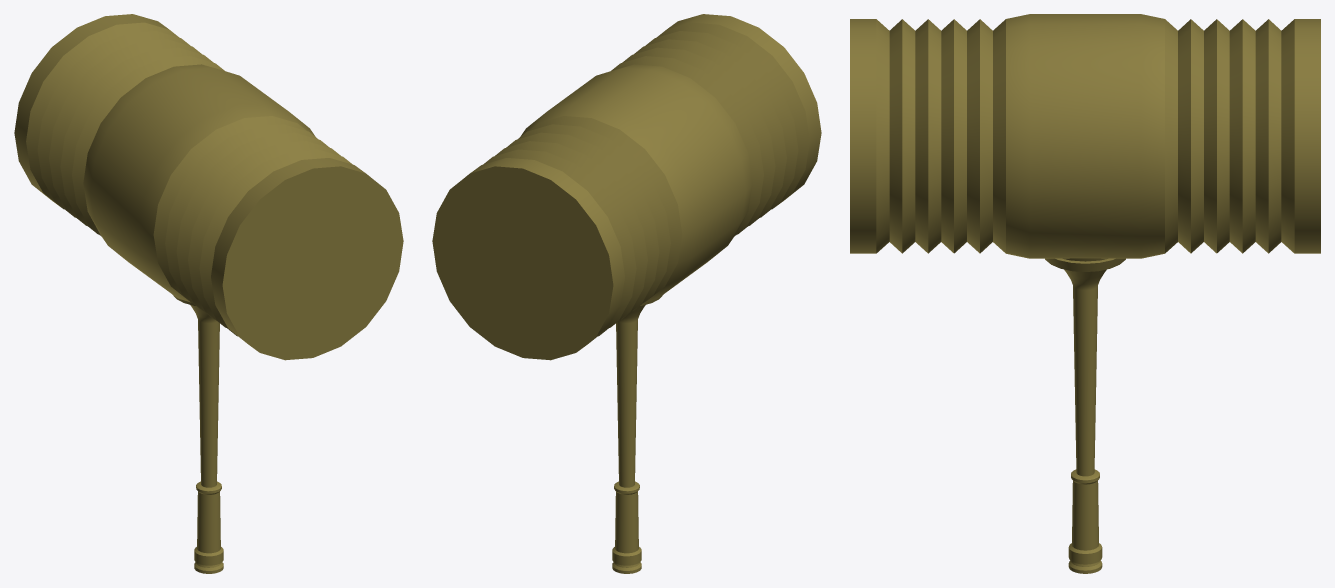
The model's file is hammer2.fbx.
3 renders of one model, left to right at view 1: azimuth 30°, elevation 25°; view 2: azimuth 150°, elevation 25°; view 3: azimuth 270°, elevation 25°, orthographic. The views are drawn at different scales.
Visible parts, largest first — view 1: hummer; view 2: hummer; view 3: hummer.
Part boxes in pixels (box(x1,y1,x2,y2)): hummer: box(14, 14, 403, 573); hummer: box(432, 14, 821, 573); hummer: box(850, 14, 1320, 573).
Bounding box in the file's own units: 2.09 × 5.08 × 3.98.
